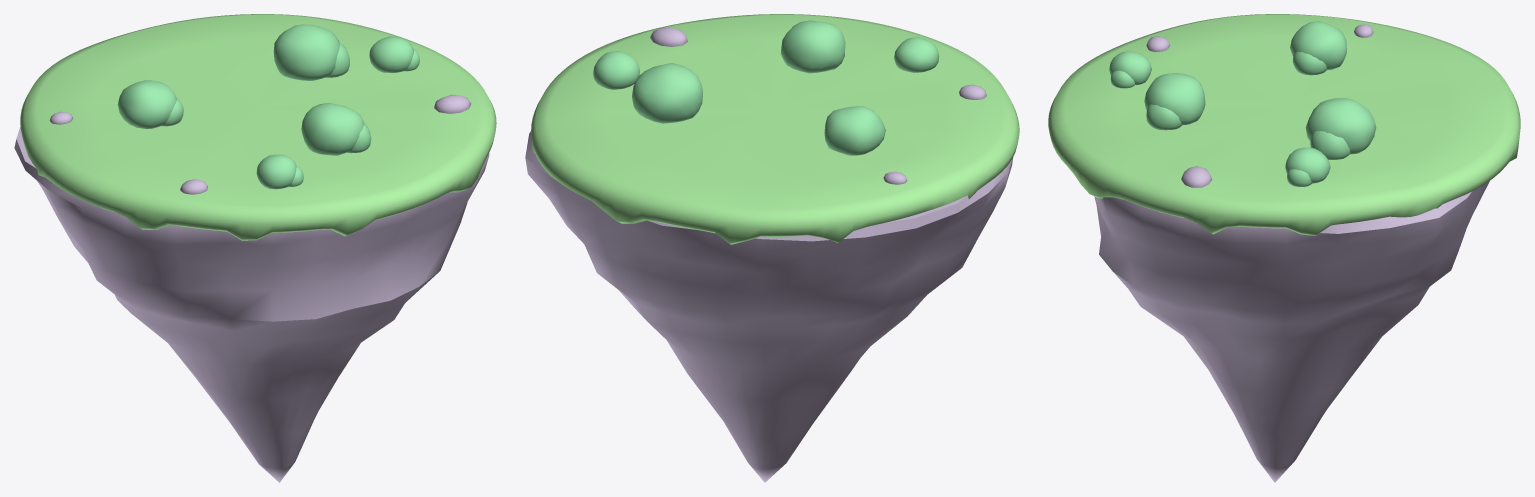
Rendered from island.glb.
3 views of the same model, side by side, from view 1: azimuth 30°, elevation 25°; view 2: azimuth 150°, elevation 25°; view 3: azimuth 270°, elevation 25° (orthographic). The views are drawn at different scales.
Parts seen in each view (by area): view 1: IslandGrass, IslandRock, IslandBush; view 2: IslandGrass, IslandRock, IslandBush; view 3: IslandGrass, IslandRock, IslandBush.
Boxes of the visible parts, bbox=[...] form: IslandGrass: bbox=[20, 14, 496, 240]; IslandRock: bbox=[14, 94, 489, 482]; IslandBush: bbox=[117, 24, 419, 189]; IslandGrass: bbox=[531, 14, 1019, 244]; IslandRock: bbox=[525, 27, 1013, 482]; IslandBush: bbox=[593, 20, 939, 155]; IslandGrass: bbox=[1048, 14, 1520, 235]; IslandRock: bbox=[1094, 24, 1489, 482]; IslandBush: bbox=[1109, 21, 1376, 186].
Size of the model in its own units: 8.51 by 8.16 by 8.51.
